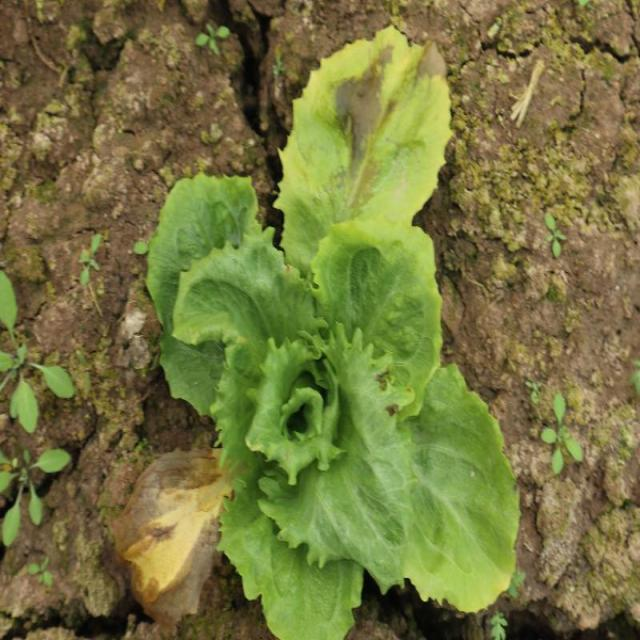crop: (144, 24, 523, 640)
